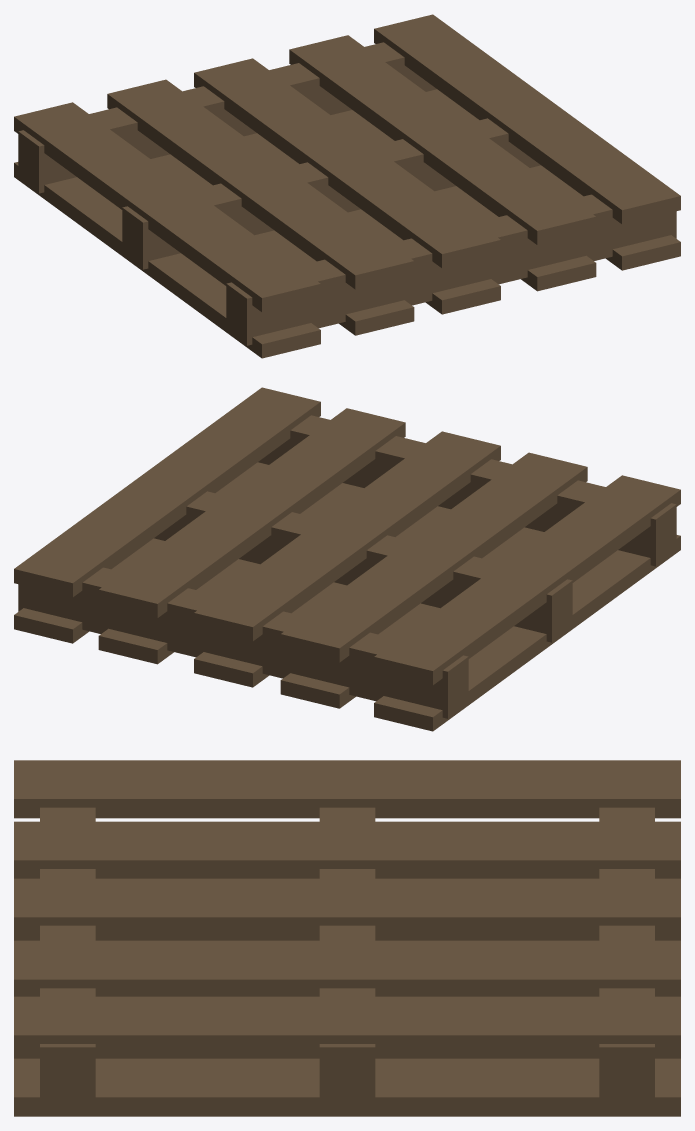
Rendered from wooden palette.fbx.
3 renders of one model, top to bottom at view 1: azimuth 30°, elevation 25°; view 2: azimuth 150°, elevation 25°; view 3: azimuth 270°, elevation 25°, orthographic. The views are drawn at different scales.
Visible parts, largest first — view 1: pCube15; view 2: pCube15; view 3: pCube15.
Boxes of the visible parts, x1,y1,x2,y2 form: pCube15: (14, 14, 680, 358); pCube15: (14, 387, 680, 731); pCube15: (14, 760, 680, 1116).
Bounding box in the file's own units: 23.85 × 3.21 × 23.85.
